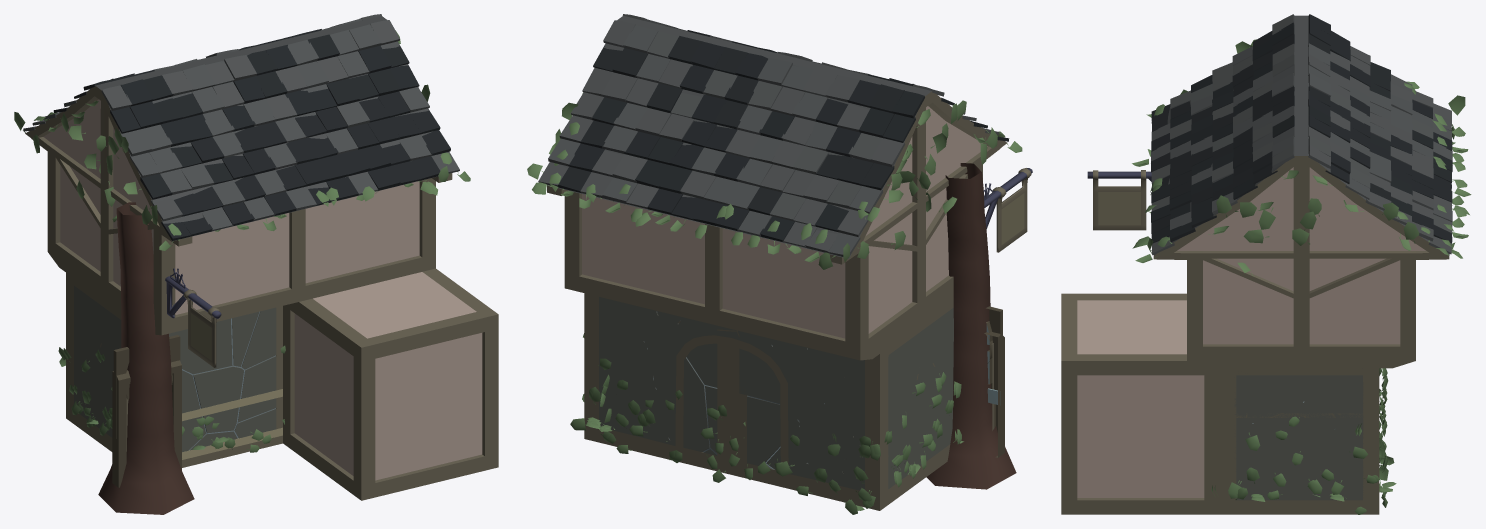
Rendered from TheTrialHaidAssets.fbx.
The picture shows the model from 3 angles, left to right: view 1: azimuth 30°, elevation 25°; view 2: azimuth 150°, elevation 25°; view 3: azimuth 270°, elevation 25°; orthographic projection. The views are drawn at different scales.
Parts seen in each view (by area): view 1: RoofTiles1, Roof, Corner, Tree, BoxStoneS, ArchStonesW, RoofIvy, Door, Sign, Arch.001, Lower, WoodenFence (+4 smaller); view 2: RoofTiles2, Roof, ArchStonesS, Tree, Arch.001, BoxStoneN, ArchStonesW, RoofIvy, Corner, ArchIvy, IvyBox, Sign (+4 smaller); view 3: Roof, Corner, RoofTiles1, RoofTiles2, ArchStonesE, BigArchStoneE, Lower, RoofIvy, BoxStoneE, Sign, ArchIvy, IvyBox (+1 smaller).
Boxes of the visible parts, x1=… form: RoofTiles1: x1=101, y1=20, x2=459, y2=240; Roof: x1=25, y1=15, x2=458, y2=335; Corner: x1=66, y1=268, x2=498, y2=500; Tree: x1=98, y1=202, x2=194, y2=514; BoxStoneS: x1=169, y1=307, x2=276, y2=452; ArchStonesW: x1=74, y1=287, x2=121, y2=437; RoofIvy: x1=14, y1=30, x2=470, y2=250; Door: x1=112, y1=360, x2=181, y2=487; Sign: x1=165, y1=268, x2=221, y2=367; Arch.001: x1=66, y1=270, x2=121, y2=451; Lower: x1=182, y1=306, x2=282, y2=467; WoodenFence: x1=182, y1=389, x2=282, y2=459; RoofTiles2: x1=538, y1=20, x2=924, y2=257; Roof: x1=547, y1=15, x2=1007, y2=360; ArchStonesS: x1=599, y1=297, x2=864, y2=490; Tree: x1=926, y1=163, x2=1016, y2=489; Arch.001: x1=584, y1=295, x2=953, y2=510; BoxStoneN: x1=599, y1=297, x2=864, y2=485; ArchStonesW: x1=888, y1=308, x2=953, y2=488; RoofIvy: x1=527, y1=93, x2=1022, y2=269; Corner: x1=584, y1=306, x2=889, y2=510; ArchIvy: x1=570, y1=333, x2=963, y2=514; IvyBox: x1=582, y1=358, x2=957, y2=512; Sign: x1=983, y1=168, x2=1032, y2=252; Roof: x1=1153, y1=15, x2=1449, y2=368; Corner: x1=1061, y1=293, x2=1236, y2=514; RoofTiles1: x1=1151, y1=14, x2=1294, y2=254; RoofTiles2: x1=1308, y1=14, x2=1452, y2=254; ArchStonesE: x1=1236, y1=375, x2=1363, y2=500; BigArchStoneE: x1=1236, y1=368, x2=1362, y2=500; Lower: x1=1219, y1=368, x2=1379, y2=514; RoofIvy: x1=1132, y1=39, x2=1471, y2=276; BoxStoneE: x1=1234, y1=376, x2=1363, y2=499; Sign: x1=1087, y1=170, x2=1151, y2=230; ArchIvy: x1=1214, y1=368, x2=1396, y2=507; IvyBox: x1=1211, y1=368, x2=1393, y2=514.
Size of the model in its own units: 728 by 800 by 774.
2 materials, 1 textured.
